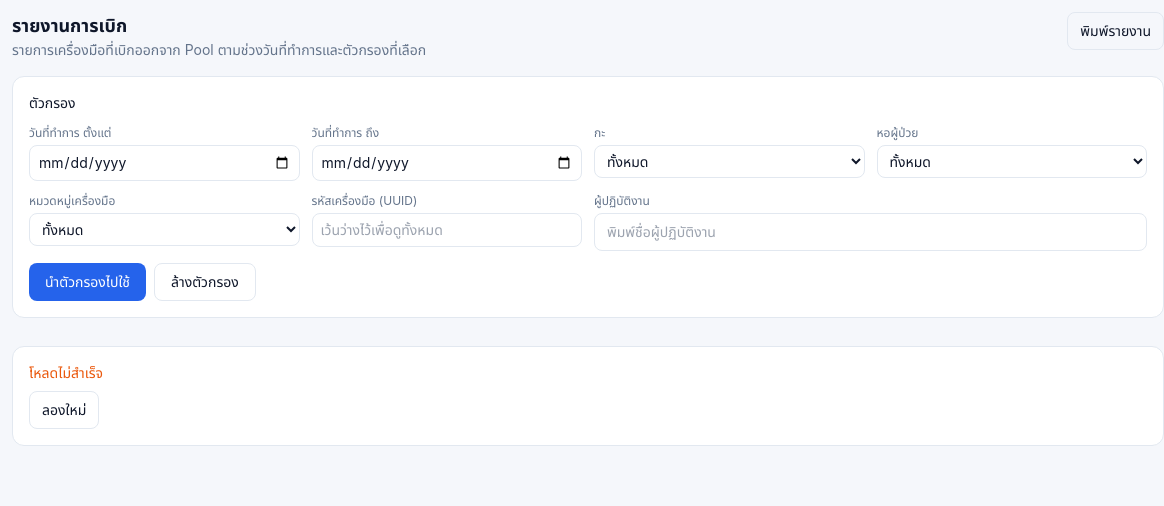
Test: IssueReportPage › shows an error state with a retry action, and retry recovers on success
Expected: the text "โหลดไม่สำเร็จ" is shown, [29,363,103,383]
Click the button "ลองใหม่" at (64, 410), box [29,391,99,429]
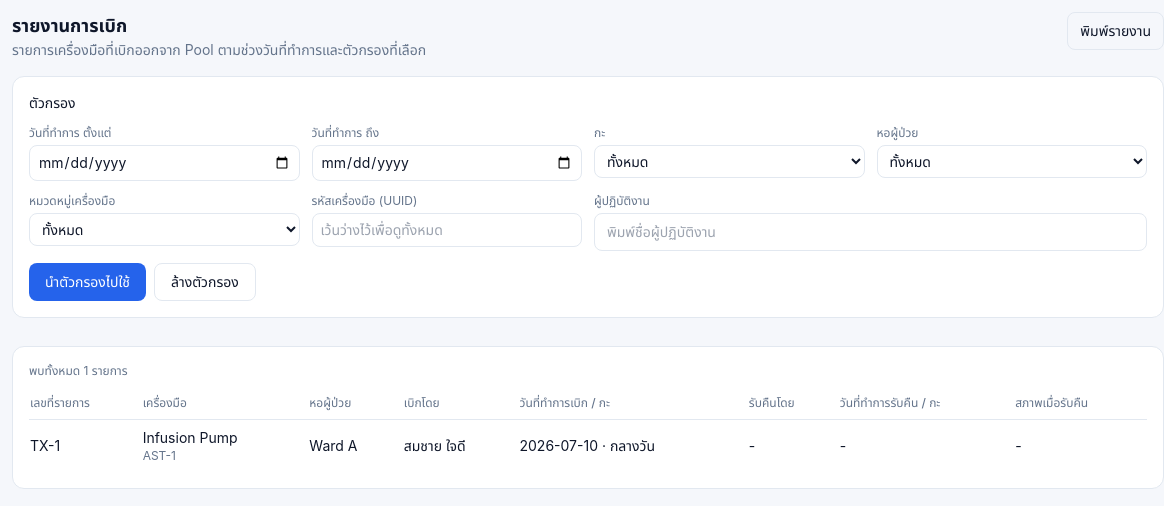
Expected: the text "โหลดไม่สำเร็จ" is gone
Expected: the text "TX-1" is shown, [29,420,142,472]
